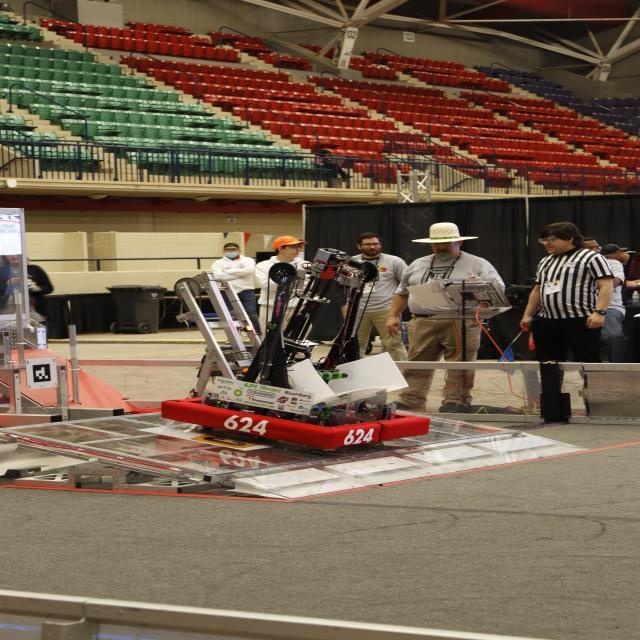robot: (147, 247, 439, 456)
